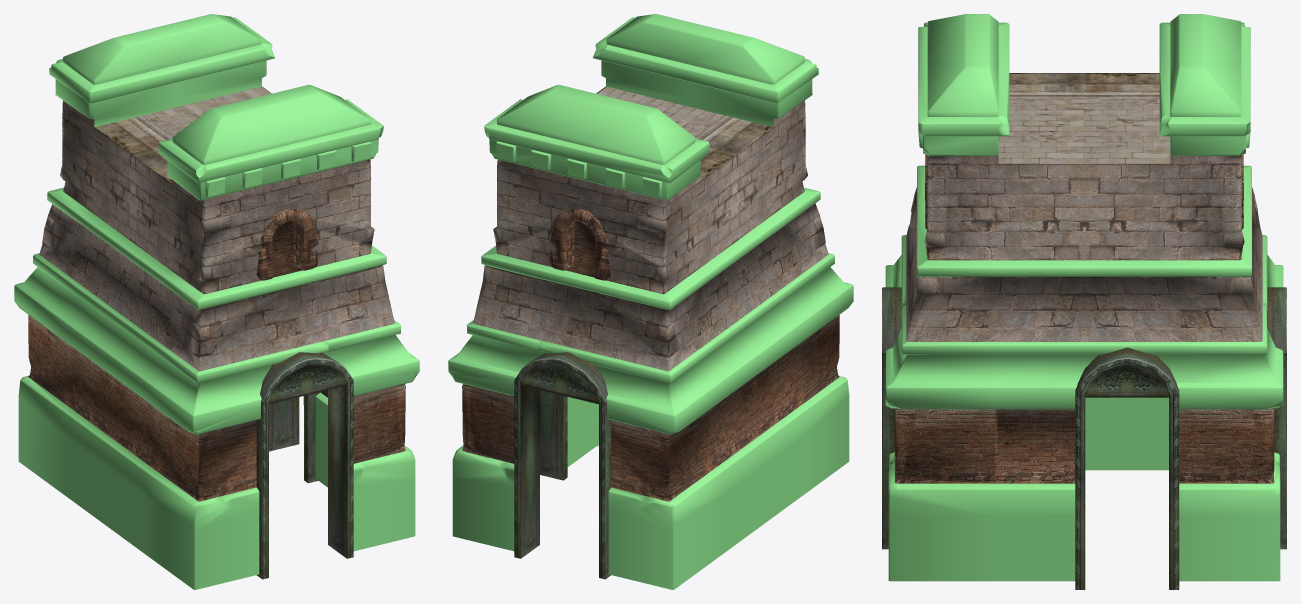
The model's file is Tower12.fbx.
3 renders of one model, left to right at view 1: azimuth 30°, elevation 25°; view 2: azimuth 150°, elevation 25°; view 3: azimuth 270°, elevation 25°, orthographic. The views are drawn at different scales.
Visible parts, largest first — view 1: LV_Campagna_City_Wall02B_SM_KWY; view 2: LV_Campagna_City_Wall02B_SM_KWY; view 3: LV_Campagna_City_Wall02B_SM_KWY.
Boxes of the visible parts, box(x1,y1,x2,y2) form: LV_Campagna_City_Wall02B_SM_KWY: box(14, 14, 419, 589); LV_Campagna_City_Wall02B_SM_KWY: box(448, 14, 853, 589); LV_Campagna_City_Wall02B_SM_KWY: box(882, 14, 1286, 589).
Size of the model in its own units: 2.8 by 4.97 by 3.77.
